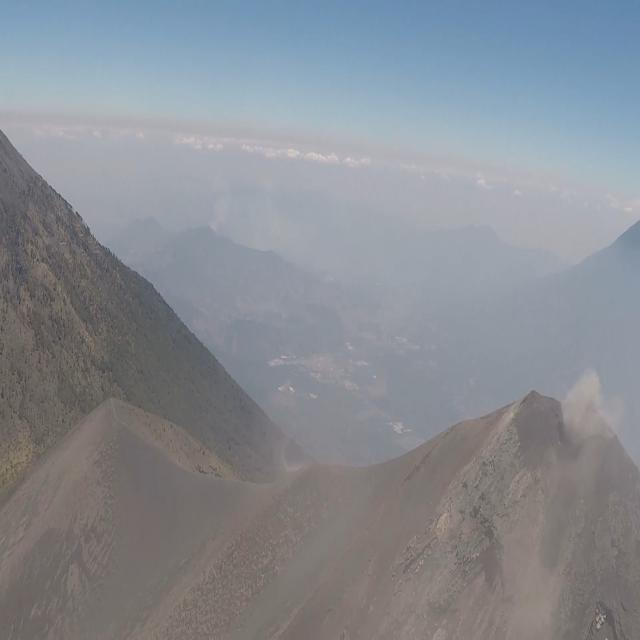Plume: (562, 366, 626, 444)
Summit: (404, 370, 640, 640)
